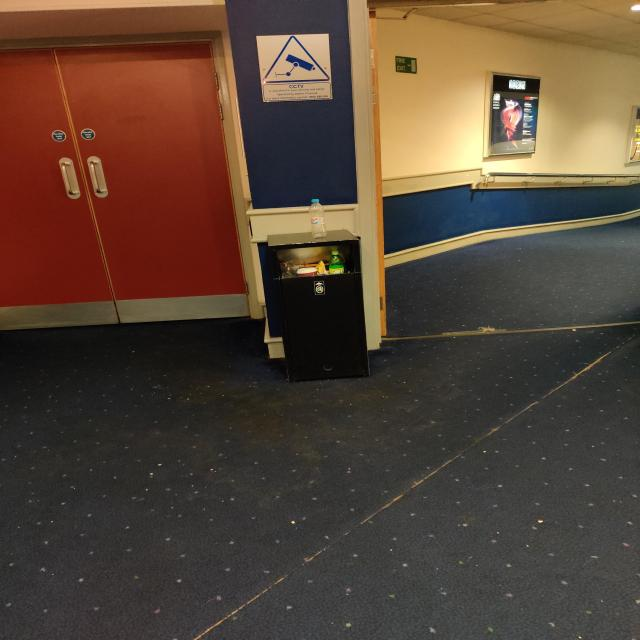litter: (308, 199, 327, 239), (329, 251, 345, 275), (314, 261, 330, 275), (296, 267, 319, 276)
